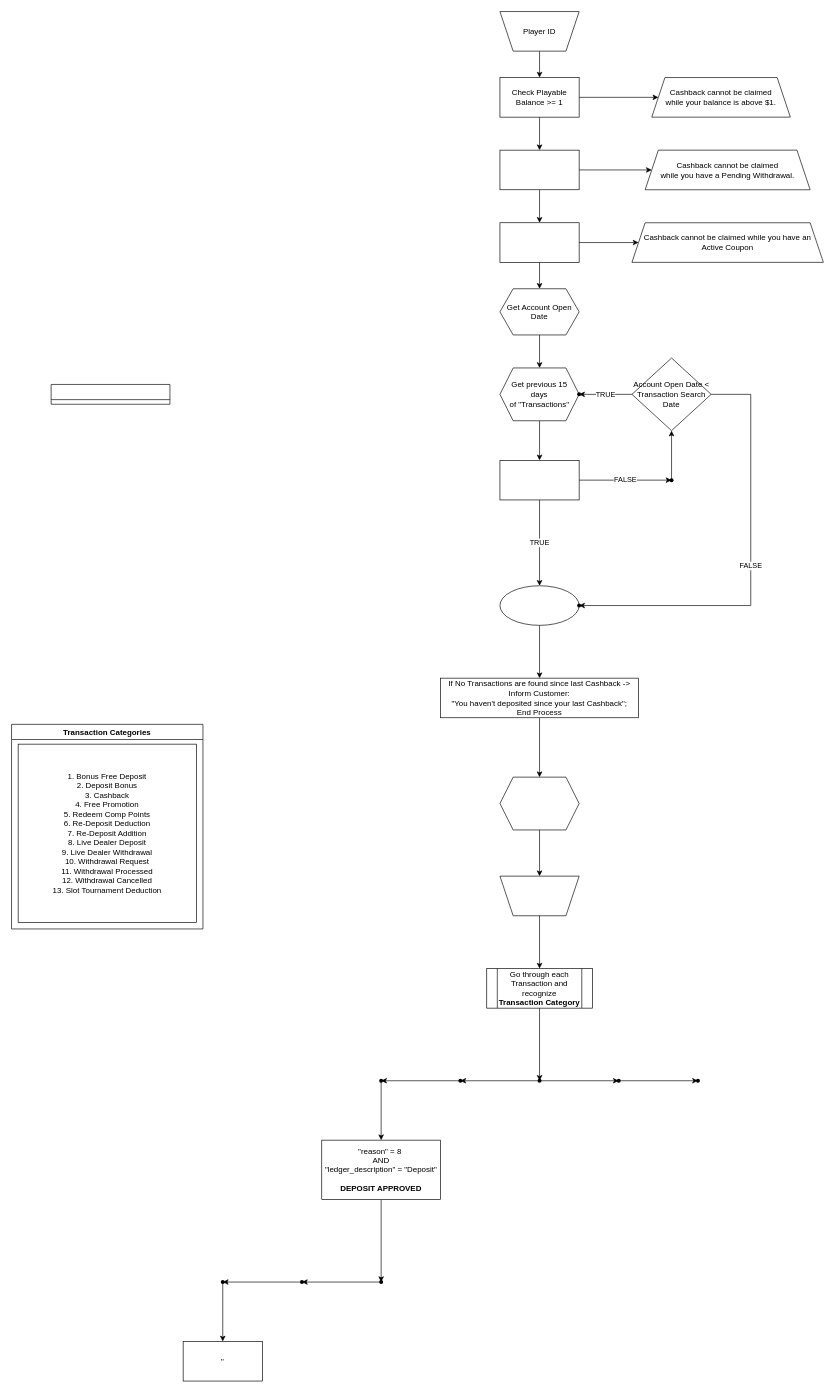
This 835x1393 diagram has some shape labels left out. The shapes that lost their labels are listed below. From the top down, each one's box as (x1, y1, x2, y2) in pixels, then its label:
(499, 149, 579, 190): Check Pending Withdrawals = 0
(499, 222, 579, 262): Check Active Coupon = None
(50, 384, 170, 404): Transaction Parameters
(499, 460, 579, 500): Cashback Located?
(499, 585, 579, 625): Review Fetched Transactions
(499, 776, 579, 830): Get Bank Methods
(499, 875, 579, 916): Player ID Transactions Bank Methods
